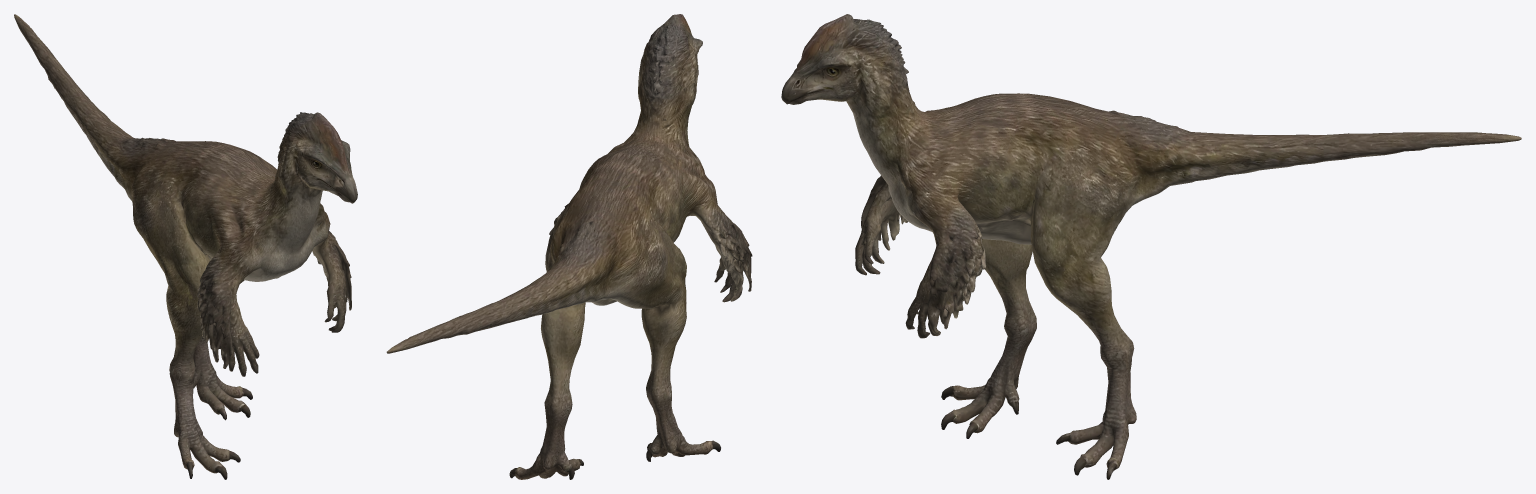
The model's file is oviraptor.glb.
3 renders of one model, left to right at view 1: azimuth 30°, elevation 25°; view 2: azimuth 150°, elevation 25°; view 3: azimuth 270°, elevation 25°, orthographic. The views are drawn at different scales.
Visible parts, largest first — view 1: dino; view 2: dino; view 3: dino.
Part boxes in pixels (x1,y1,x2,y2): dino: [14, 14, 357, 479]; dino: [386, 14, 752, 479]; dino: [781, 14, 1521, 479].
Bounding box in the file's own units: 0.6007 × 1.32 × 2.
Materials: 1 (1 with a texture image).
